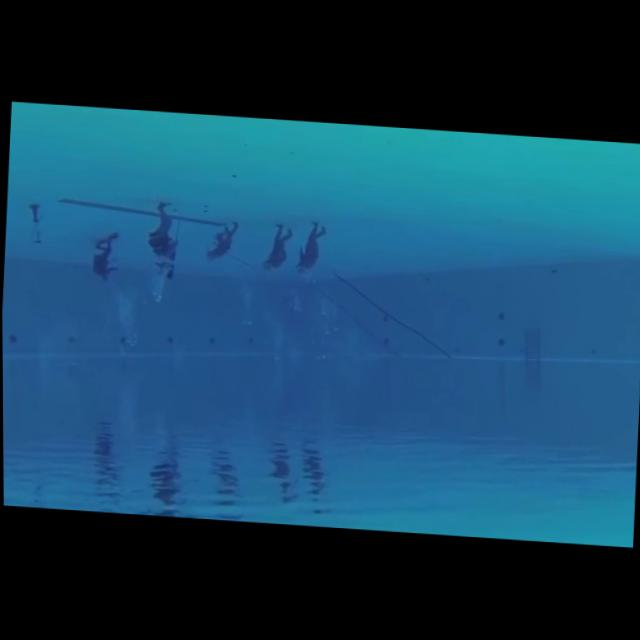human: (143, 199, 183, 263), (292, 216, 330, 279), (258, 221, 297, 276), (88, 227, 121, 287), (202, 216, 240, 266)
